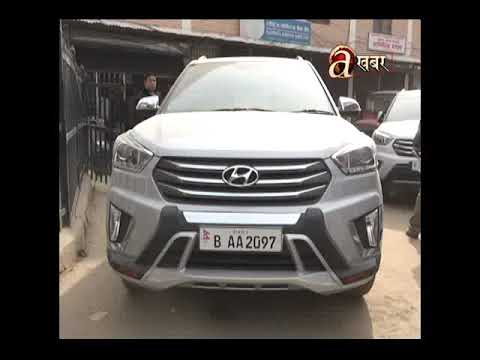number plate: (199, 225, 283, 256)
